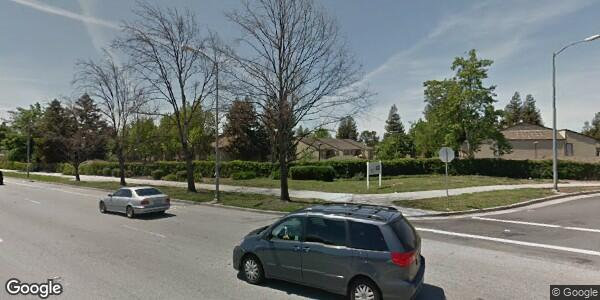Steel_Pole: (548, 34, 600, 195), (177, 40, 224, 207)
